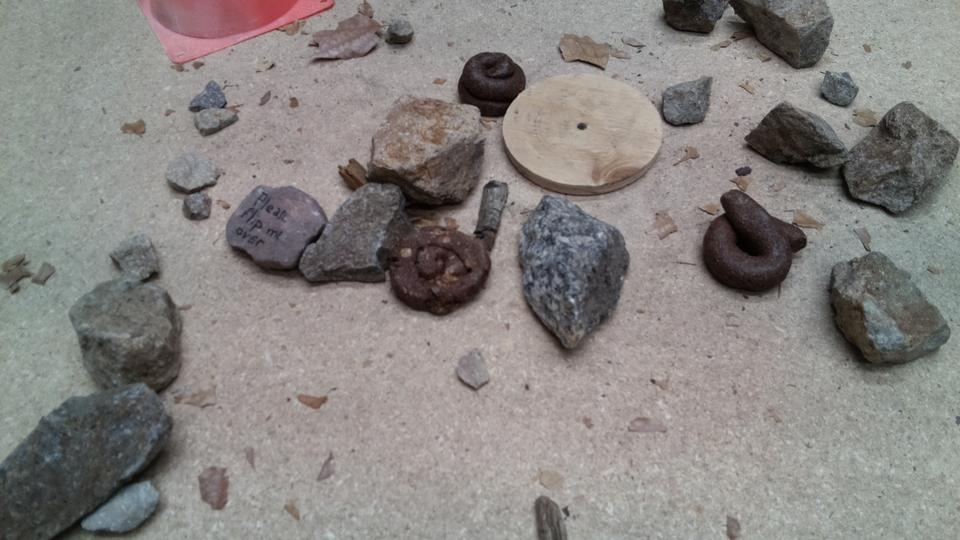poop: (702, 186, 809, 295), (389, 226, 493, 318), (455, 49, 530, 118)
